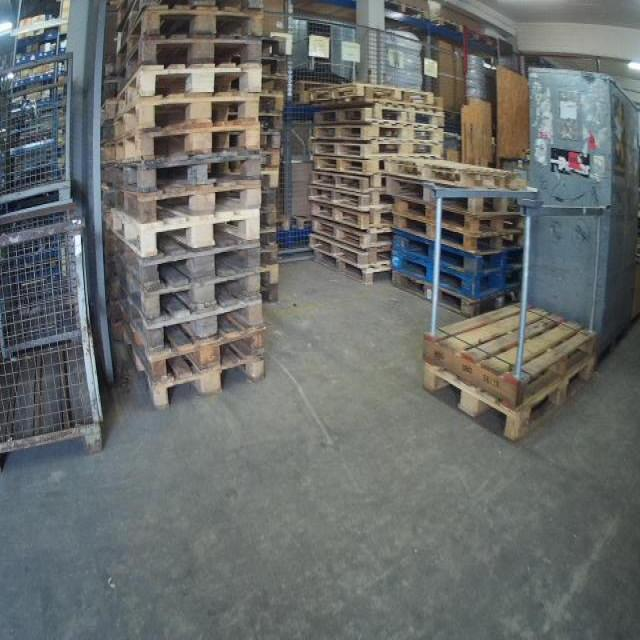pallet: (422, 301, 600, 407), (420, 357, 597, 446), (122, 338, 268, 409), (116, 299, 265, 353), (121, 325, 264, 381), (119, 11, 263, 64), (116, 272, 267, 321), (115, 243, 263, 288), (114, 68, 262, 112), (114, 214, 262, 257), (117, 42, 260, 86), (111, 128, 264, 163), (393, 260, 523, 299), (397, 277, 515, 319), (109, 189, 262, 221), (398, 241, 524, 277), (395, 201, 524, 236), (110, 164, 263, 191), (388, 158, 511, 191), (389, 185, 520, 213), (104, 105, 260, 128), (393, 228, 525, 250), (311, 105, 441, 125), (311, 125, 447, 144), (314, 255, 392, 287), (309, 203, 394, 230), (310, 235, 396, 261), (310, 143, 446, 159), (314, 220, 395, 246), (309, 171, 388, 195), (308, 189, 392, 211), (314, 156, 385, 175), (260, 231, 283, 265), (263, 93, 288, 116), (264, 38, 289, 60), (264, 60, 290, 78), (263, 170, 283, 191), (263, 78, 290, 93), (263, 116, 285, 133), (263, 151, 282, 170), (268, 265, 283, 289), (259, 213, 278, 231), (263, 133, 282, 151), (259, 193, 275, 213), (268, 289, 281, 306)
stillage: (1, 192, 110, 478), (3, 43, 81, 210)
